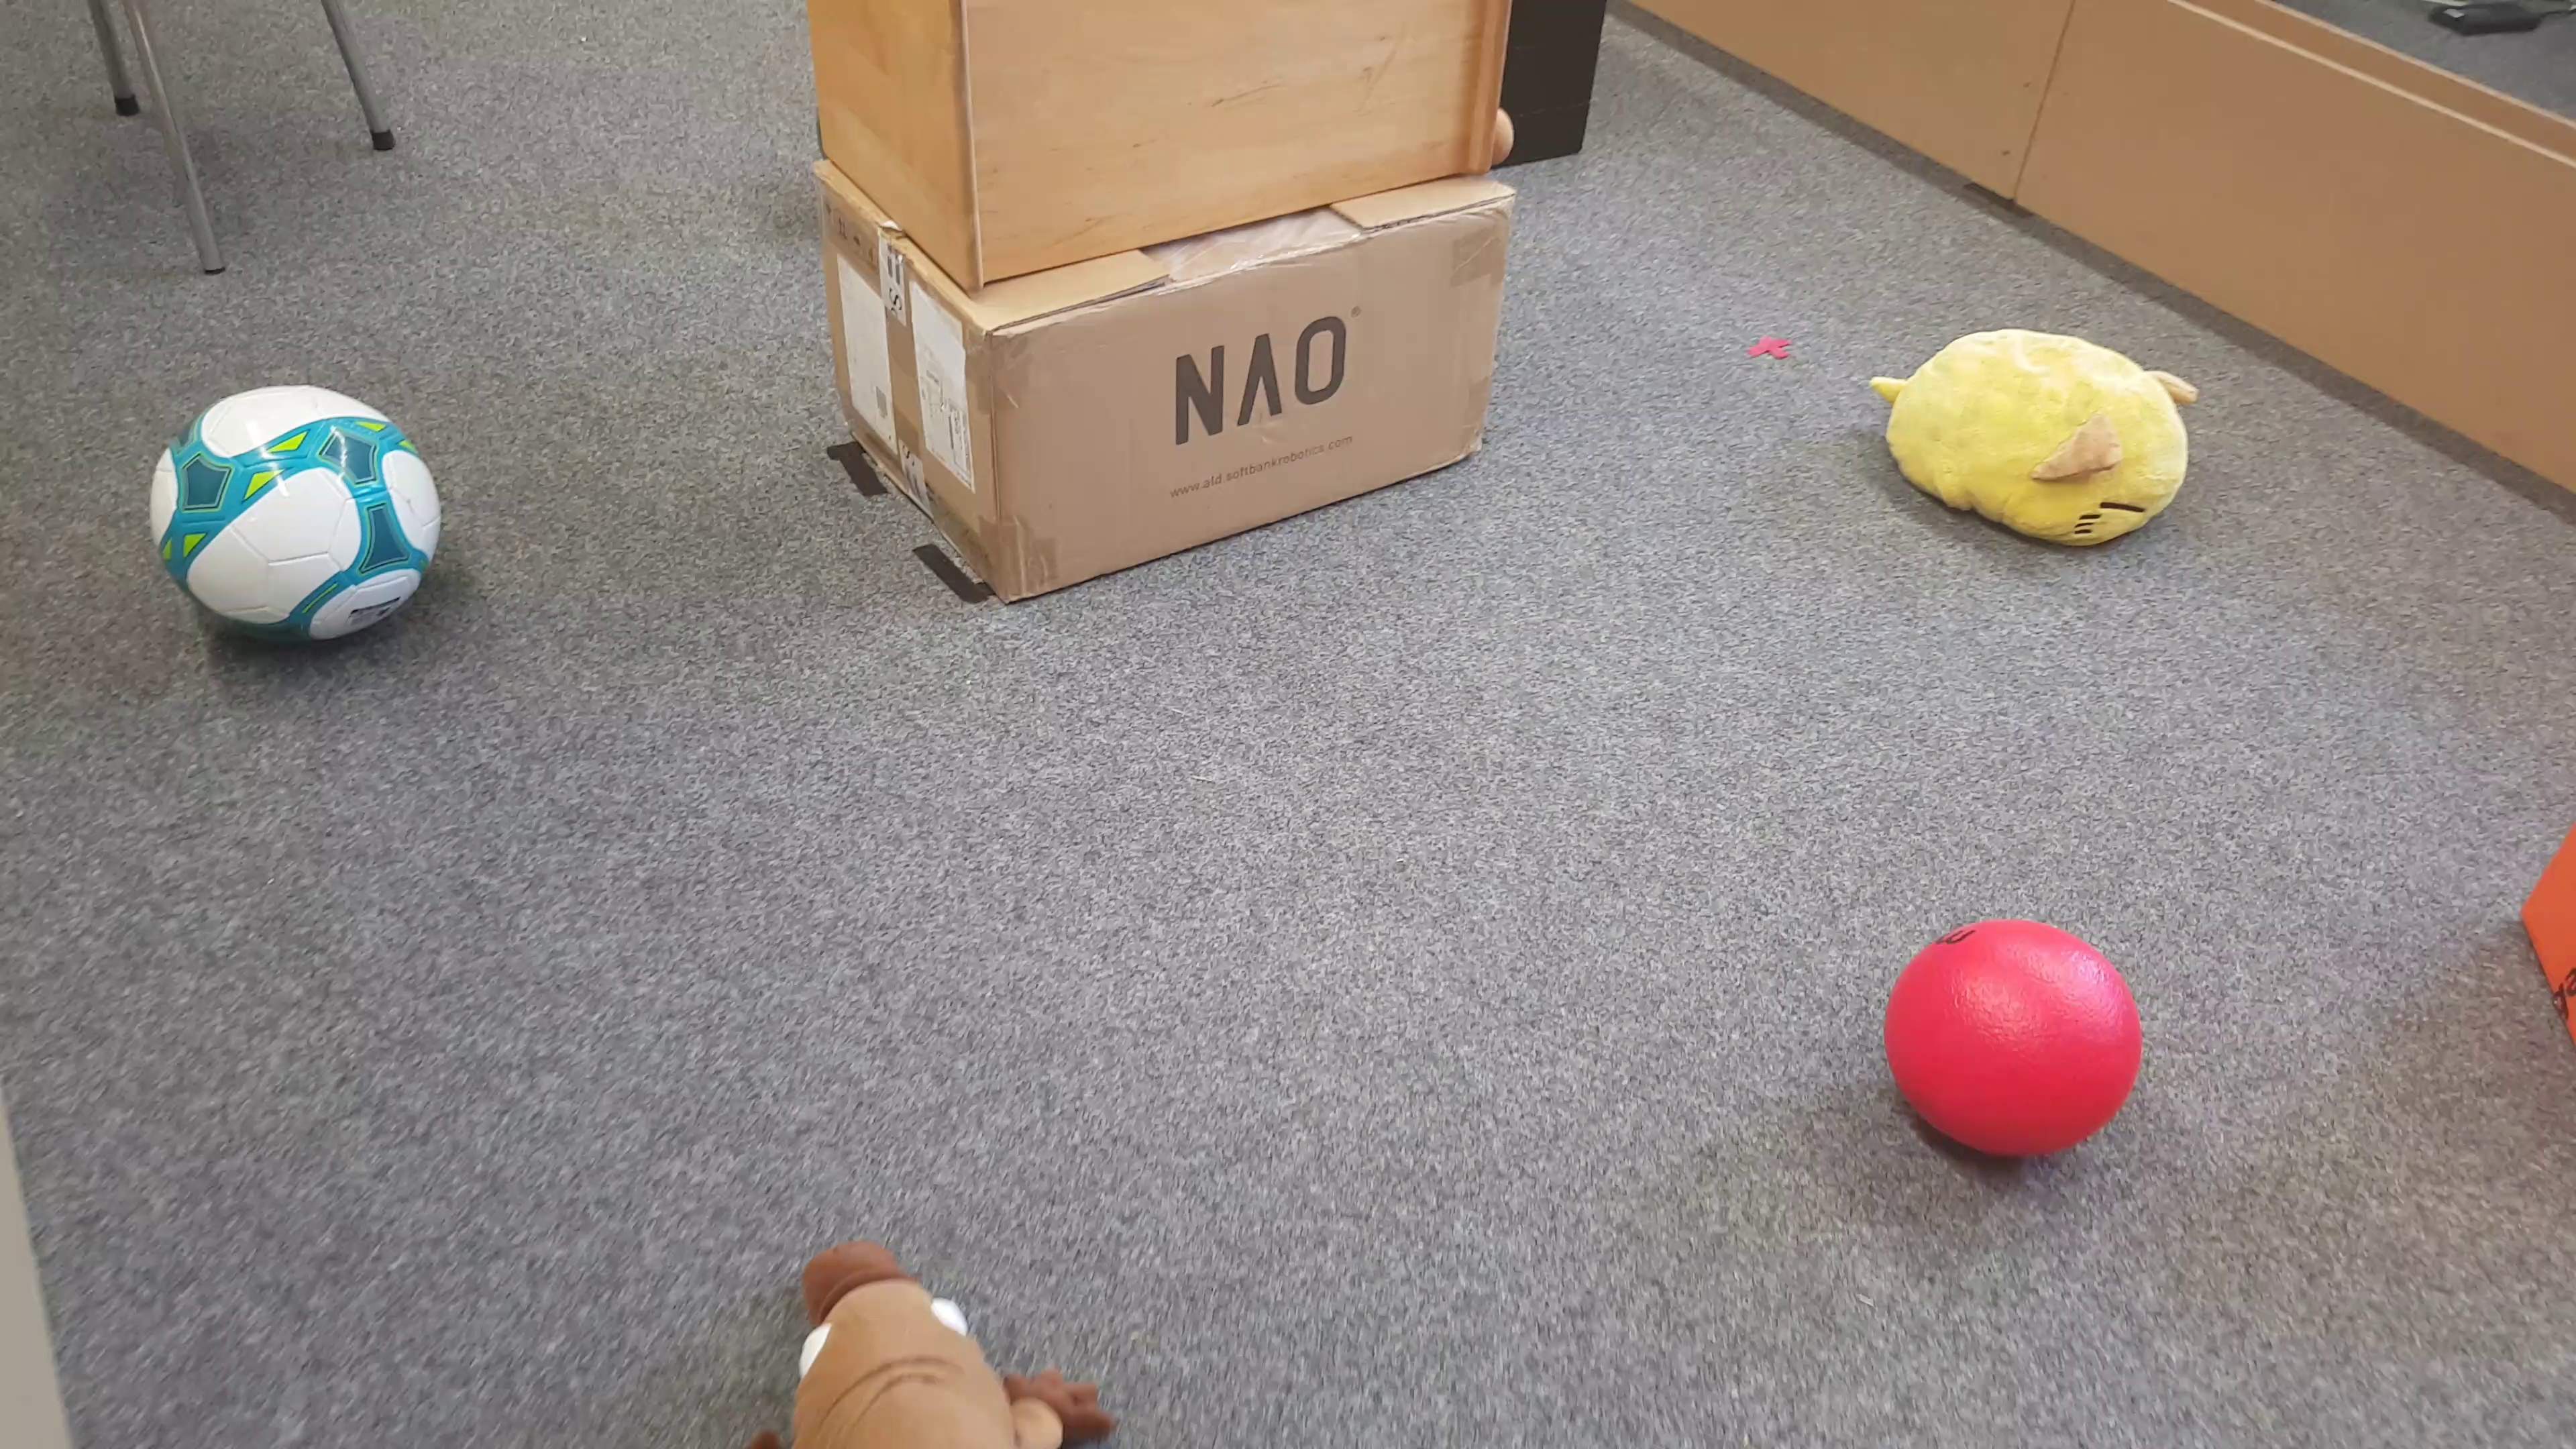grasp: (743, 1238, 1104, 1449), (1865, 331, 2190, 557)
kick: (145, 384, 444, 648), (1886, 916, 2146, 1162)
